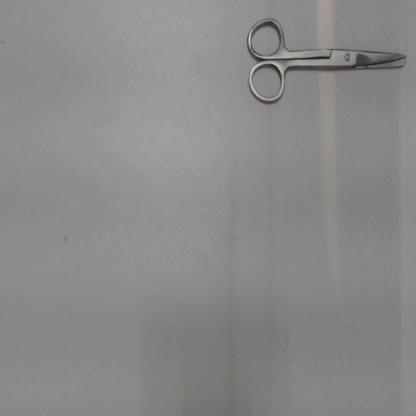Dressing Scissors: (235, 9, 412, 117)
